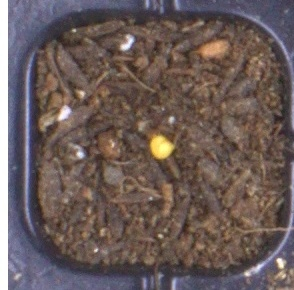chilli seed: (150, 134, 176, 161)
